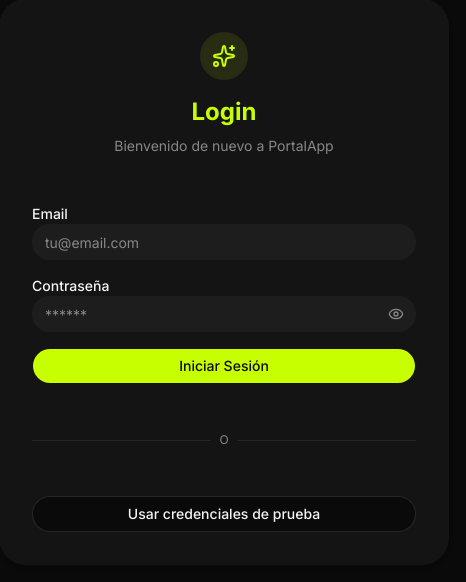
LoginPage › botón "Usar credenciales de prueba" rellena los campos correctamente
What coordinates should you click on to do the following:
click the button "Usar credenciales de prueba"
I would click on:
 (224, 514)
Its box is 32,496 -> 416,532.
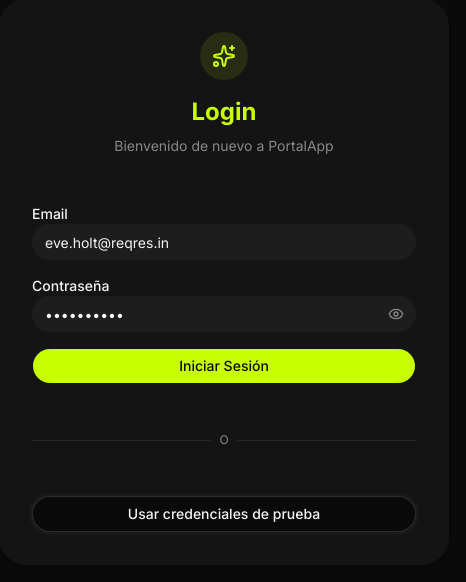
expect the field labelled "Email" holds "eve.holt@reqres.in": met, box 32,224 -> 416,260
expect the password field labelled "Contraseña" holds "cityslicka": met, box 32,296 -> 416,332
